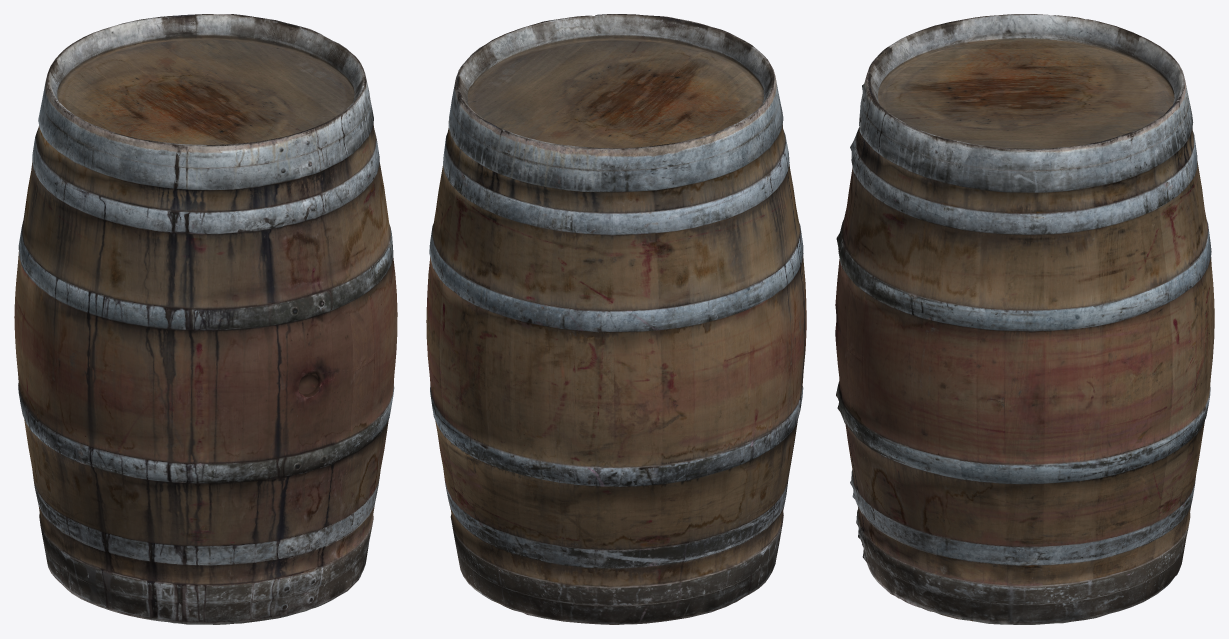
File: wooden_quixel.glb
3 views of the same model, side by side, from view 1: azimuth 30°, elevation 25°; view 2: azimuth 150°, elevation 25°; view 3: azimuth 270°, elevation 25° (orthographic).
Visible parts, largest first — view 1: tmgpcg2fa_LOD0_TIER2_000; view 2: tmgpcg2fa_LOD0_TIER2_000; view 3: tmgpcg2fa_LOD0_TIER2_000.
Boxes of the visible parts, x1,y1,x2,y2 form: tmgpcg2fa_LOD0_TIER2_000: (14, 14, 397, 624); tmgpcg2fa_LOD0_TIER2_000: (426, 14, 806, 624); tmgpcg2fa_LOD0_TIER2_000: (835, 14, 1214, 624).
Bounding box in the file's own units: 0.6952 × 0.967 × 0.6942.
Materials: 1 (1 with a texture image).
